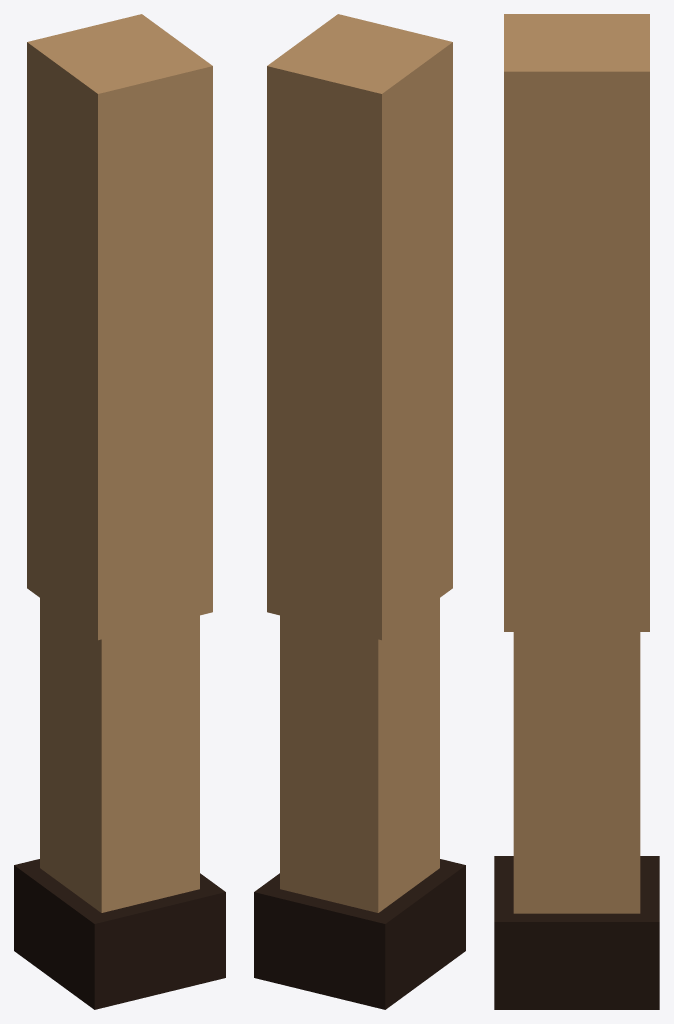
The model's file is carreta_leg_buey.obj.
3 views of the same model, side by side, from view 1: azimuth 30°, elevation 25°; view 2: azimuth 150°, elevation 25°; view 3: azimuth 270°, elevation 25° (orthographic). The views are drawn at different scales.
Visible parts, largest first — view 1: carreta_leg_buey; view 2: carreta_leg_buey; view 3: carreta_leg_buey.
Boxes of the visible parts, x1=… form: carreta_leg_buey: x1=14, y1=14, x2=225, y2=1009; carreta_leg_buey: x1=254, y1=14, x2=465, y2=1009; carreta_leg_buey: x1=494, y1=14, x2=659, y2=1009.
Bounding box in the file's own units: 0.1472 × 0.9752 × 0.1564.
